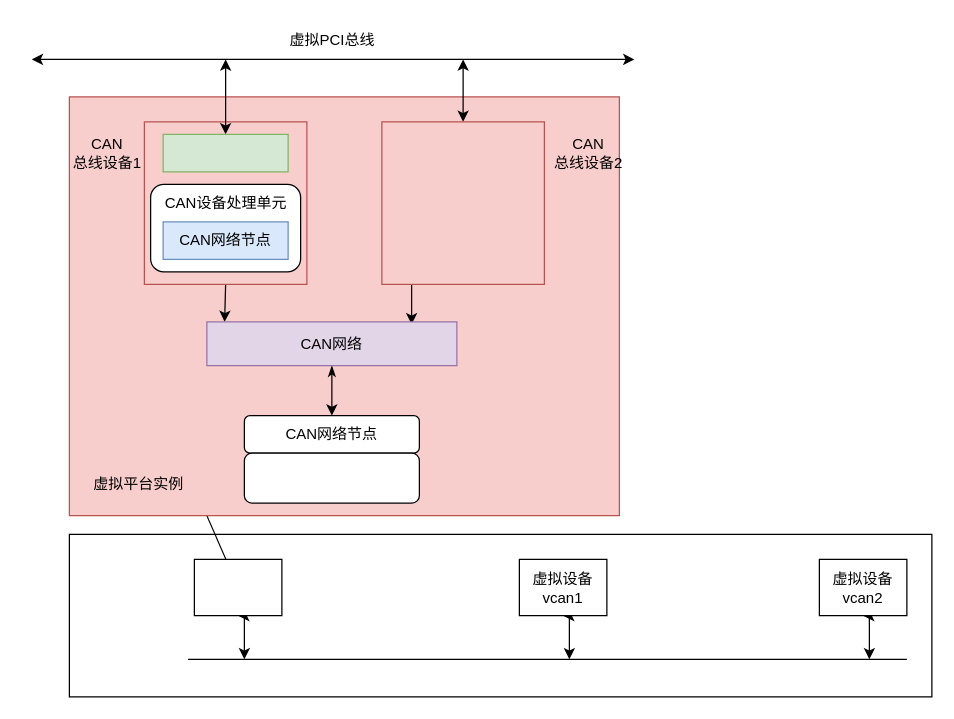
Image size: 954x719. Some labels were removed from this diagram. Each missing label, with the box of its shape:
PCI类型 IO模块: (162, 133, 288, 172)
套接字 AF_CAN（can_raw）: (243, 452, 419, 503)
虚拟设备vcan0: (193, 558, 282, 616)
